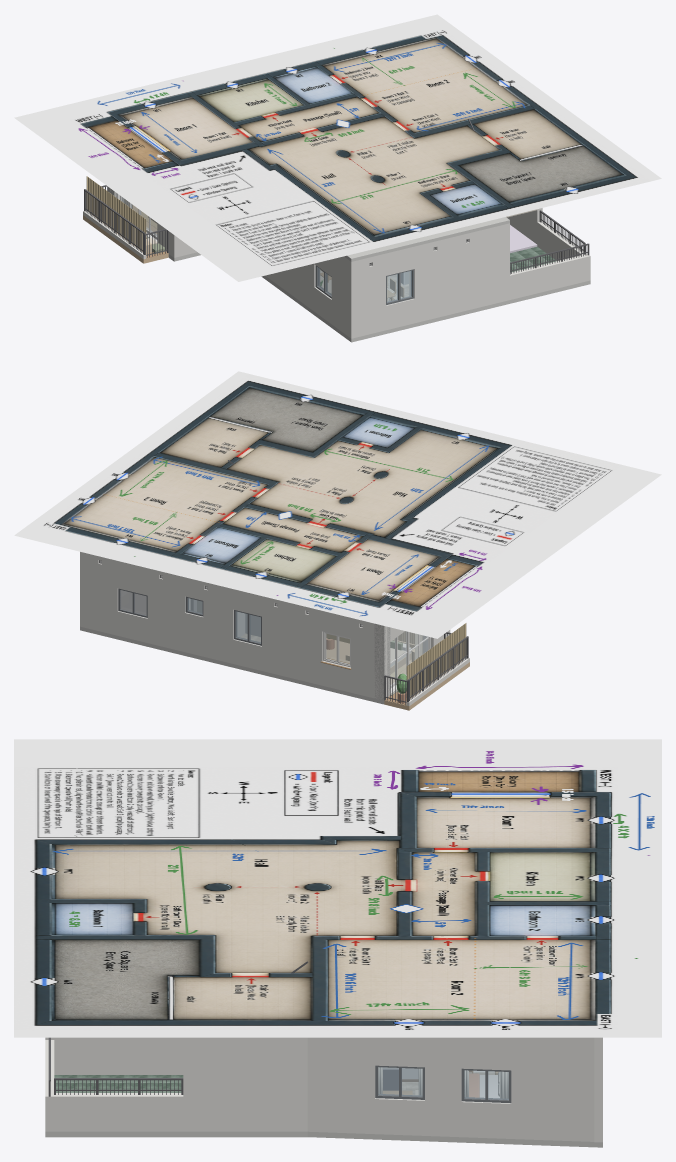
File: MyFlat_V2_Room1_OPTION_A.glb
3 views of the same model, one above another, from view 1: azimuth 30°, elevation 25°; view 2: azimuth 150°, elevation 25°; view 3: azimuth 270°, elevation 25° (orthographic). The views are drawn at different scales.
Visible parts, largest first — view 1: PLAN_REFERENCE_OVERLAY, WALL_EXT_S_HALL, WALL_EXT_W_HALL, PARAPET_OPENSQ_S, R1_OPA_BALCONY_BAMBOO_SCREEN, SLAB_FLOOR_STRUCTURAL, BALCONY_RAILING_W, SLAB_ROOF, PARAPET_OPENSQ_E, RAILING_OPENSQ_S, WALL_EXT_E_STAIR, HBB_OPENSQ_FINISH (+3 smaller); view 2: PLAN_REFERENCE_OVERLAY, WALL_EXT_N_R1, WALL_EXT_N_R2, WALL_EXT_N_KIT, WALL_EXT_N_B2, R1_OPA_BALCONY_BAMBOO_SCREEN, BALCONY_RAILING_W, SLAB_FLOOR_STRUCTURAL, PILLAR_R1_NW, WINDOW_W2_GLASS, WALL_EXT_W_R1_BALCONY; view 3: PLAN_REFERENCE_OVERLAY, WALL_EXT_E_R2_TAPERED, WALL_EXT_E_STAIR, PARAPET_OPENSQ_E, WALL_INT_OPENSQ_W, SLAB_FLOOR_STRUCTURAL, HBB_OPENSQ_FINISH, WINDOW_W5_GLASS, WINDOW_W6_GLASS, RAILING_OPENSQ_E, WALL_EXT_N_R2, PARAPET_OPENSQ_S (+2 smaller).
Boxes of the visible parts, x1=… form: PLAN_REFERENCE_OVERLAY: x1=14, y1=14, x2=661, y2=281; WALL_EXT_S_HALL: x1=348, y1=223, x2=509, y2=338; WALL_EXT_W_HALL: x1=265, y1=256, x2=356, y2=338; PARAPET_OPENSQ_S: x1=510, y1=254, x2=590, y2=299; R1_OPA_BALCONY_BAMBOO_SCREEN: x1=86, y1=176, x2=146, y2=253; SLAB_FLOOR_STRUCTURAL: x1=168, y1=252, x2=590, y2=342; BALCONY_RAILING_W: x1=84, y1=189, x2=145, y2=254; SLAB_ROOF: x1=344, y1=217, x2=509, y2=261; PARAPET_OPENSQ_E: x1=537, y1=221, x2=587, y2=260; RAILING_OPENSQ_S: x1=510, y1=243, x2=589, y2=274; WALL_EXT_E_STAIR: x1=507, y1=208, x2=542, y2=244; HBB_OPENSQ_FINISH: x1=510, y1=246, x2=556, y2=272; PLAN_REFERENCE_OVERLAY: x1=14, y1=371, x2=661, y2=638; WALL_EXT_N_R1: x1=283, y1=601, x2=387, y2=700; WALL_EXT_N_R2: x1=80, y1=553, x2=176, y2=649; WALL_EXT_N_KIT: x1=211, y1=584, x2=283, y2=676; WALL_EXT_N_B2: x1=177, y1=575, x2=211, y2=658; R1_OPA_BALCONY_BAMBOO_SCREEN: x1=406, y1=623, x2=466, y2=698; BALCONY_RAILING_W: x1=407, y1=636, x2=468, y2=701; SLAB_FLOOR_STRUCTURAL: x1=80, y1=626, x2=384, y2=704; PILLAR_R1_NW: x1=374, y1=623, x2=390, y2=700; WINDOW_W2_GLASS: x1=236, y1=611, x2=260, y2=642; WALL_EXT_W_R1_BALCONY: x1=375, y1=624, x2=449, y2=698; PLAN_REFERENCE_OVERLAY: x1=14, y1=739, x2=661, y2=1037; WALL_EXT_E_R2_TAPERED: x1=307, y1=1037, x2=594, y2=1141; WALL_EXT_E_STAIR: x1=183, y1=1037, x2=307, y2=1131; PARAPET_OPENSQ_E: x1=54, y1=1093, x2=183, y2=1131; WALL_INT_OPENSQ_W: x1=54, y1=1037, x2=183, y2=1074; SLAB_FLOOR_STRUCTURAL: x1=45, y1=1131, x2=602, y2=1147; HBB_OPENSQ_FINISH: x1=54, y1=1075, x2=183, y2=1092; WINDOW_W5_GLASS: x1=464, y1=1070, x2=508, y2=1099; WINDOW_W6_GLASS: x1=378, y1=1067, x2=422, y2=1096; RAILING_OPENSQ_E: x1=54, y1=1078, x2=183, y2=1094; WALL_EXT_N_R2: x1=594, y1=1037, x2=602, y2=1142; PARAPET_OPENSQ_S: x1=45, y1=1040, x2=54, y2=1131.
Size of what is drawn, in the model's own units: 18.03 by 4.33 by 16.55.
Materials: 125 (7 with a texture image).
